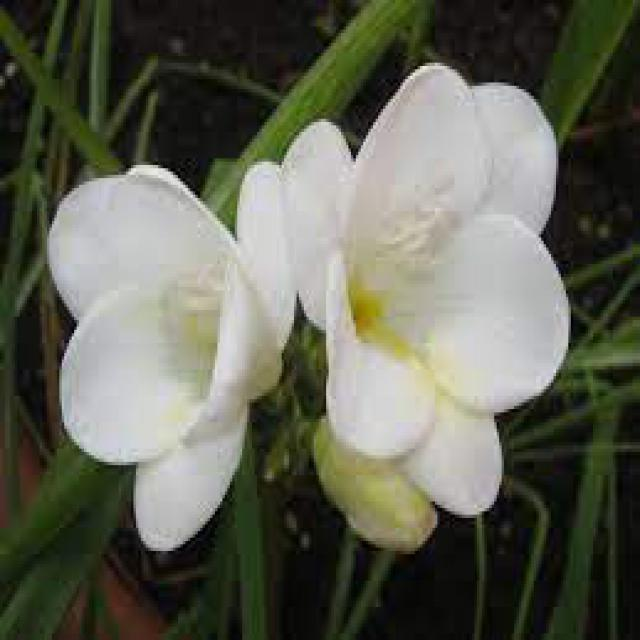freesia: (256, 47, 600, 570), (23, 106, 309, 542)
